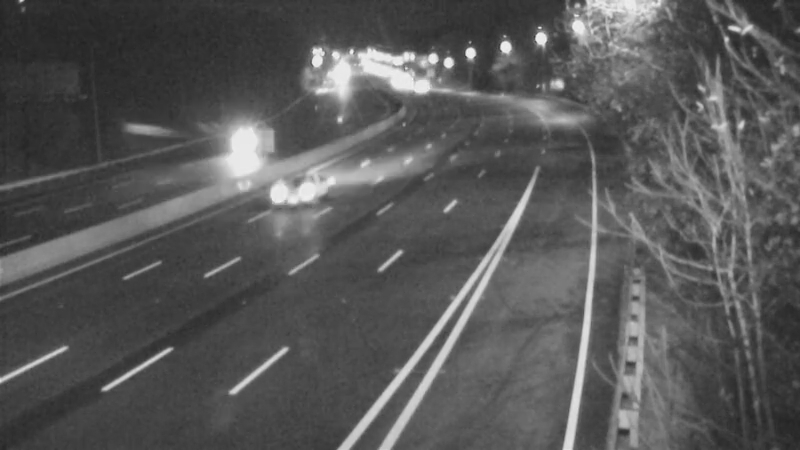vehicle: (253, 153, 333, 233), (214, 121, 264, 171)
